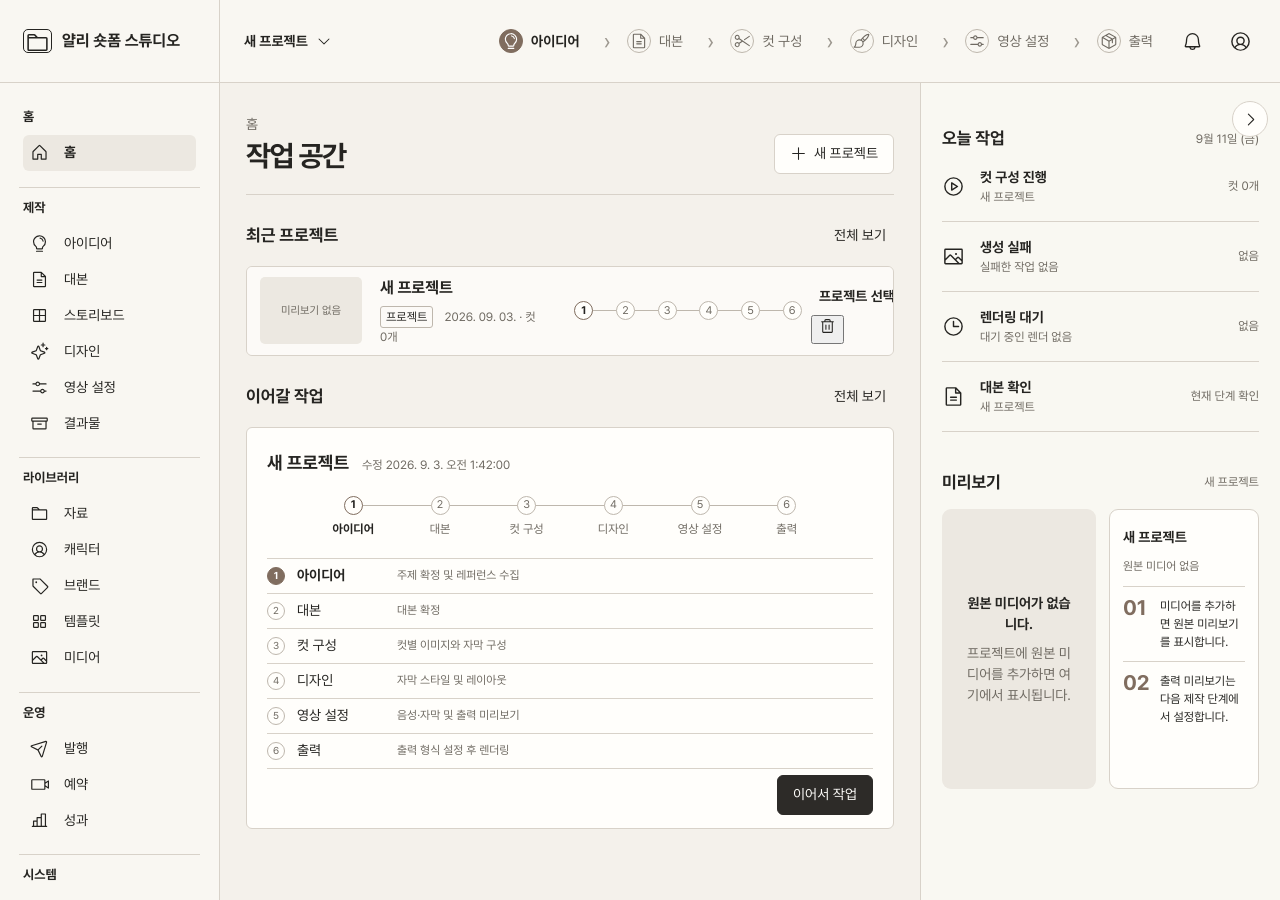
an existing idea project selection opens its idea route
The width and height of the screenshot is (1280, 900).
Click the button "이어서 작업": x=825, y=795 [777, 775, 873, 815]
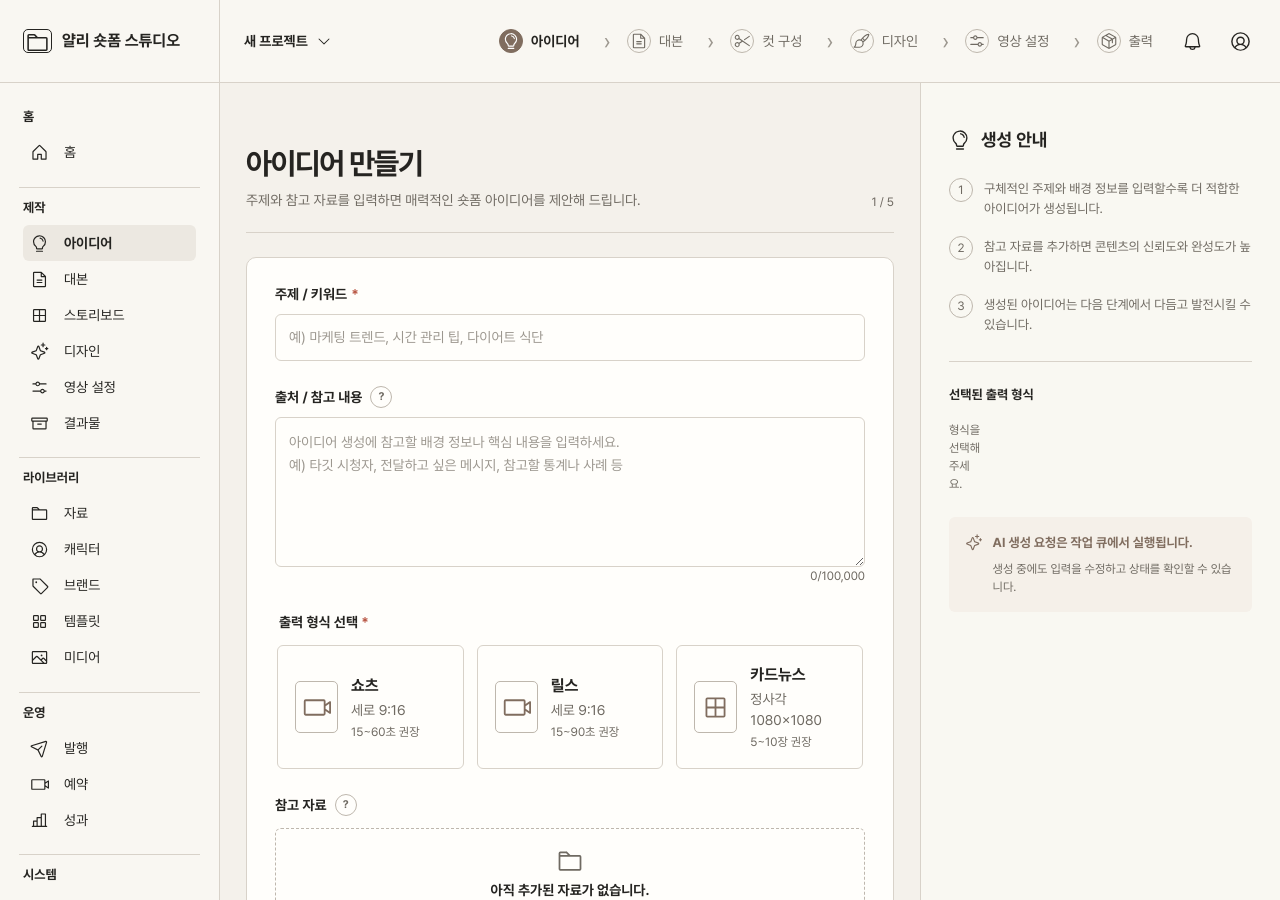
Expected: the heading "아이디어 만들기" is shown, [246, 145, 422, 181]
